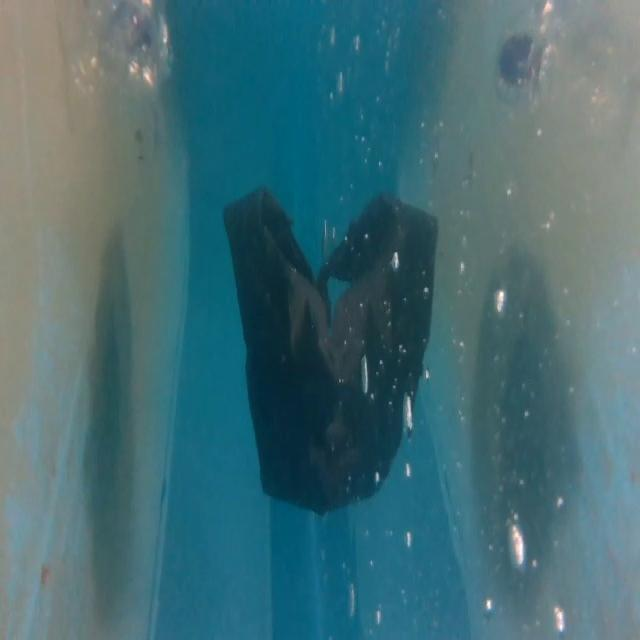plastic bags: (216, 177, 441, 522)
